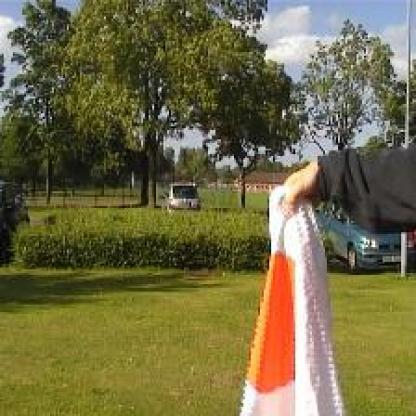other: (233, 239, 308, 399)
